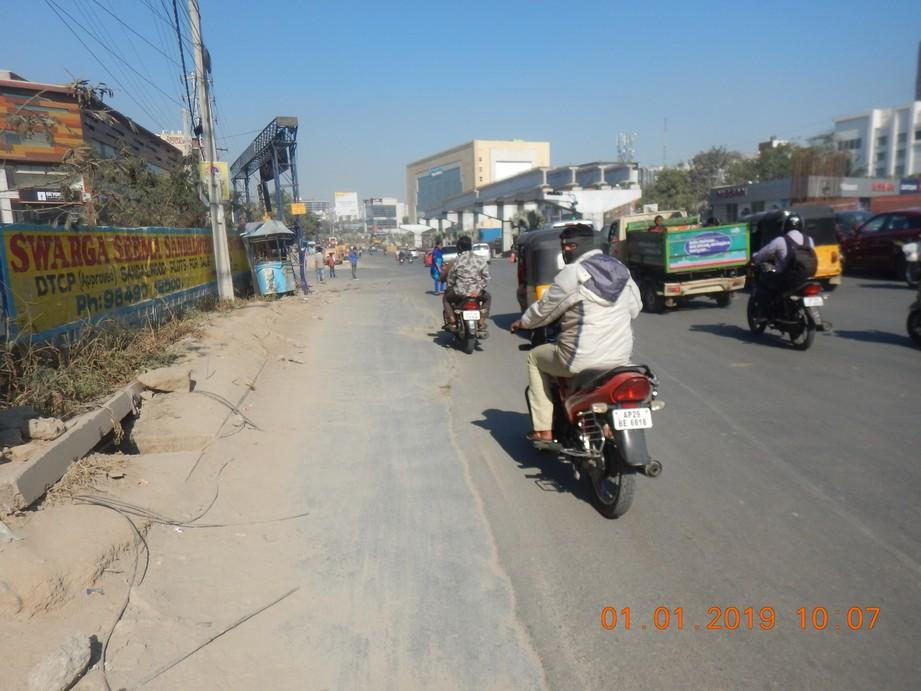plate: (614, 409, 654, 429)
